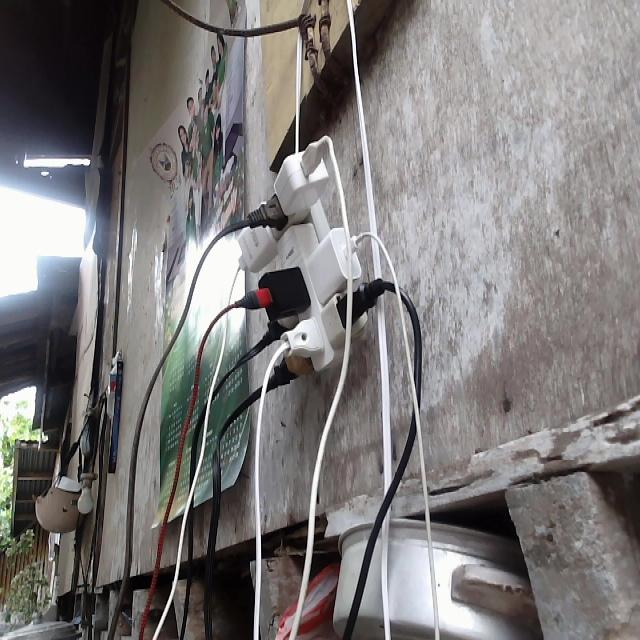-: (228, 130, 387, 378)
